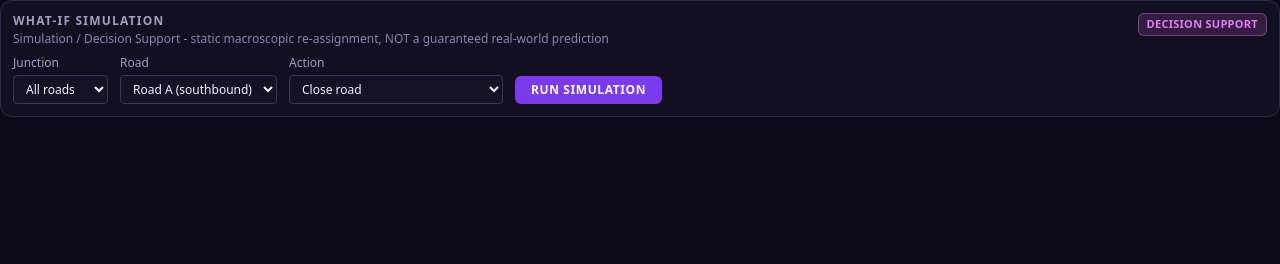
Test: WhatIfPanel › runs the simulation on the backend and shows affected roads
Check: the text "NOT a guaranteed real-world prediction" is shown, box [13,30,609,47]
Select "Road B (westbound)" in the dropdown labelled "Road" at (198, 90), box [120,75,277,104]
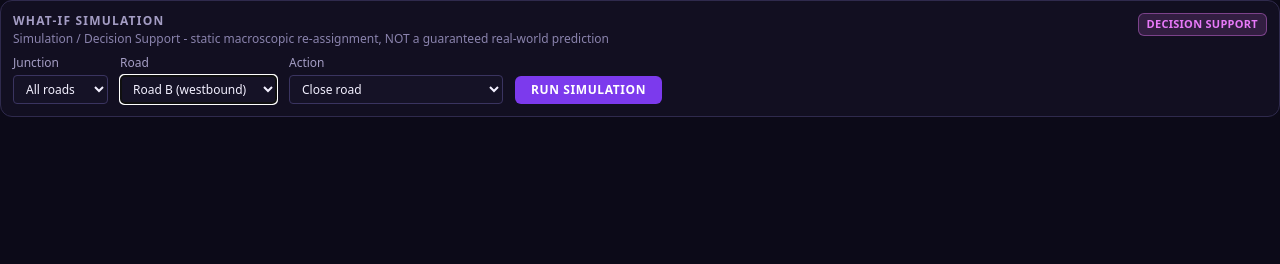
Click the button "Run simulation" at (589, 90), box [515,76,662,104]
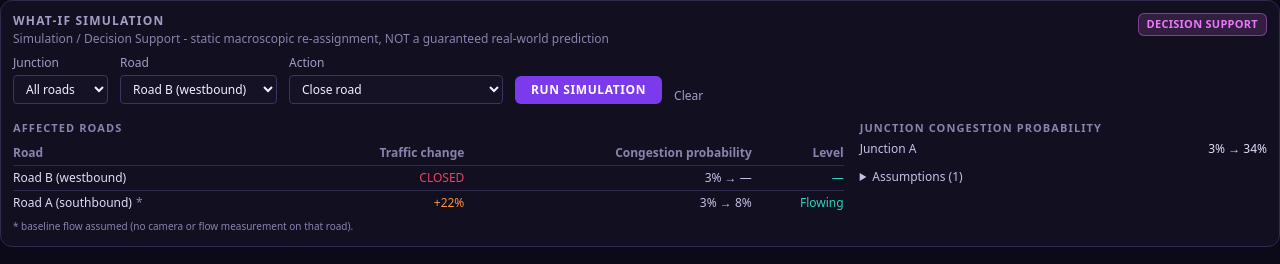
Check: the text "+22%" is shown, box [286,190,464,214]
Check: the text "CLOSED" is shown, box [286,165,464,190]
Check: the text "3% → 34%" is shown, box [1208,140,1267,156]
